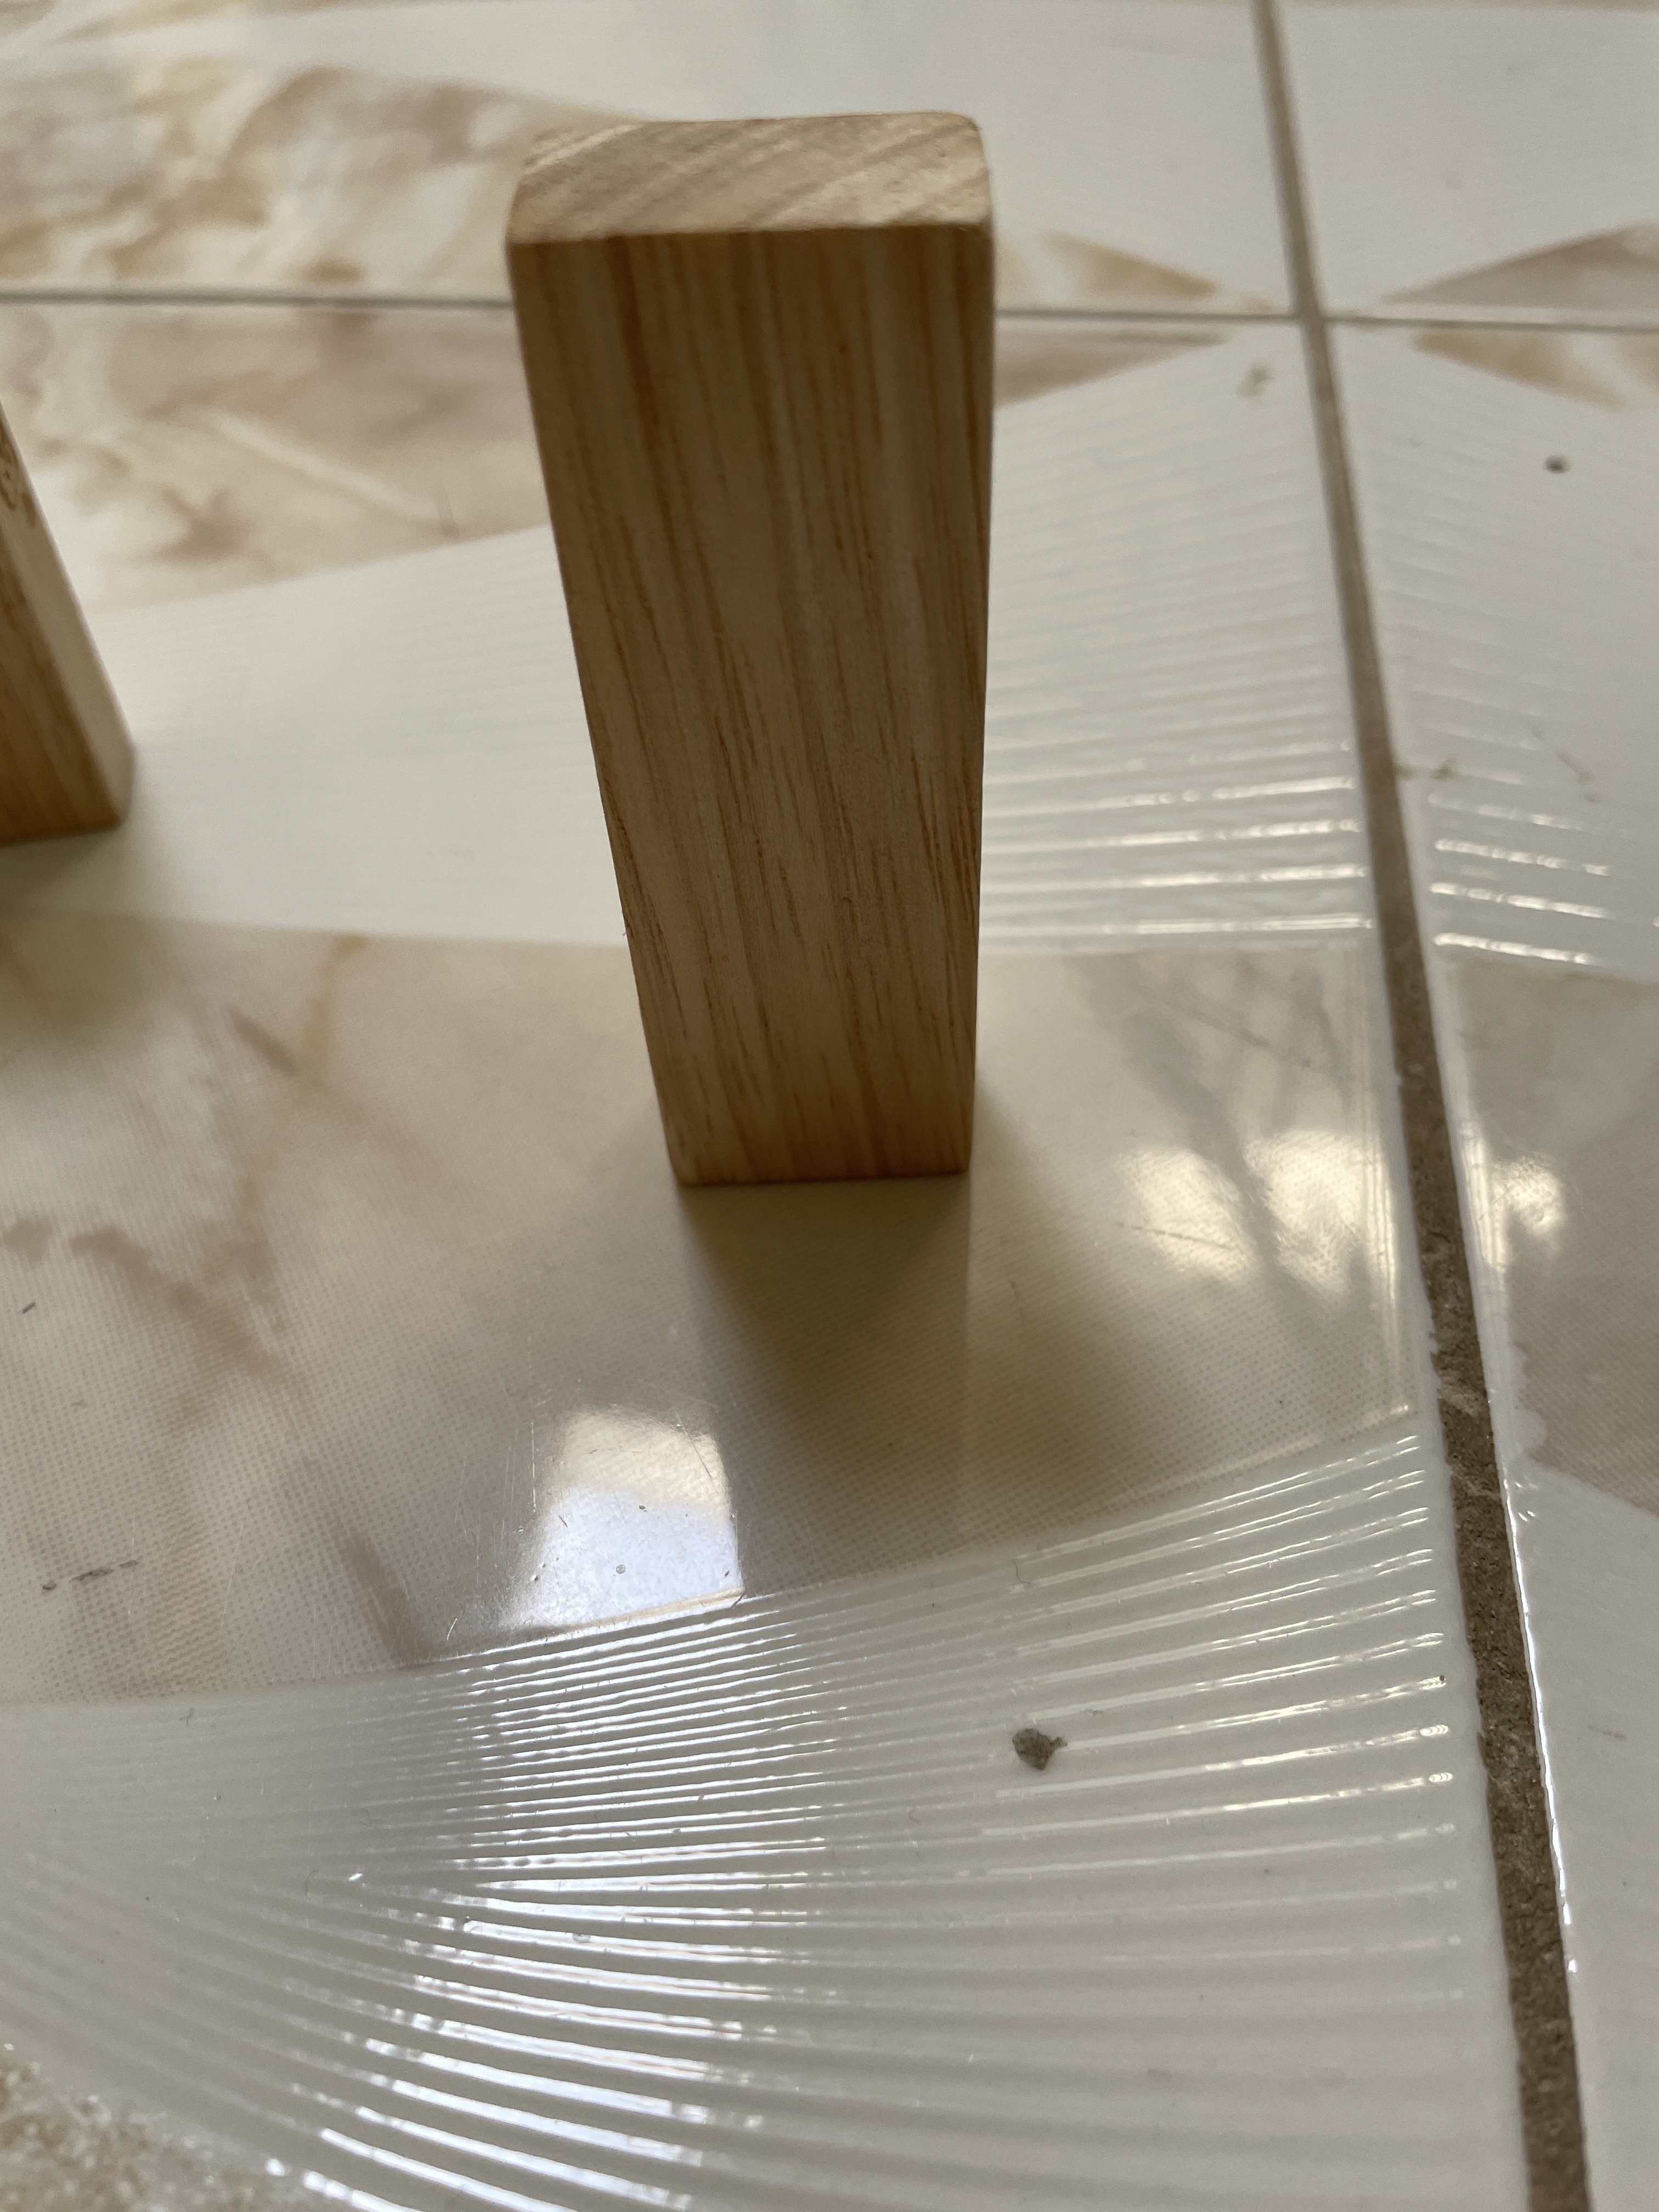jenga: (526, 125, 1028, 1177)
